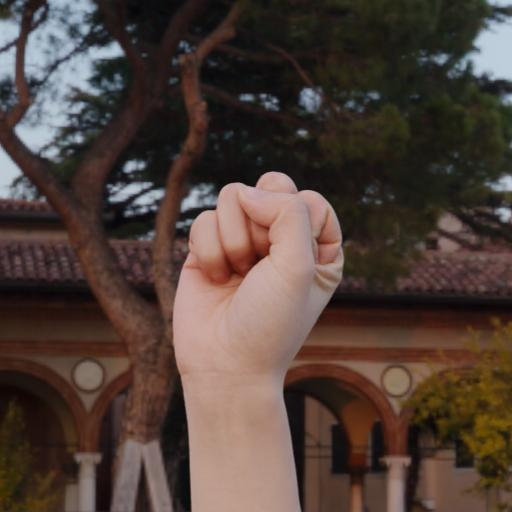S: (141, 148, 375, 438)
